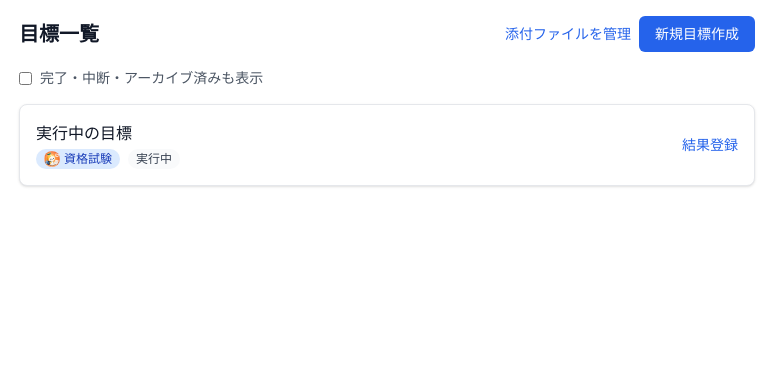
Test: GoalsListPage の一覧 › shows only draft, active and paused goals by default (開発Todo 1-9)
Check: the text "実行中の目標" is shown, box top-left (36, 123), bottom-right (132, 143)
Check: the text "完了した目標" is not shown
Click the checkbox labelled "完了・中断・アーカイブ済みも表示": (26, 78) top-left (19, 72), bottom-right (32, 84)
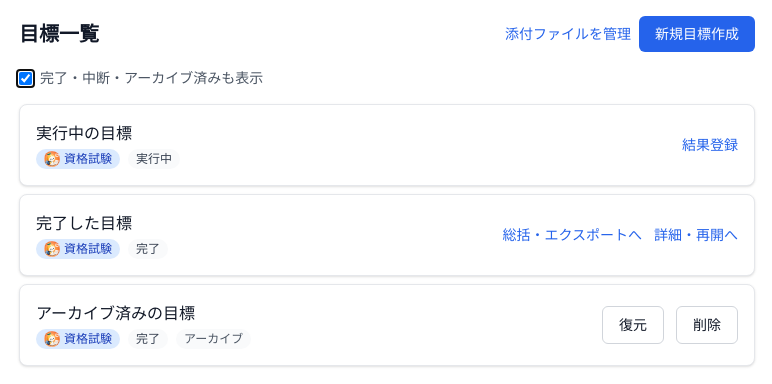
Check: the text "完了した目標" is shown, box top-left (36, 213), bottom-right (132, 233)
Check: the text "アーカイブ済みの目標" is shown, box top-left (36, 303), bottom-right (195, 323)
Check: the text "アーカイブ" is shown, box top-left (176, 329), bottom-right (251, 349)
